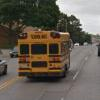Bus: (15, 27, 73, 80)
